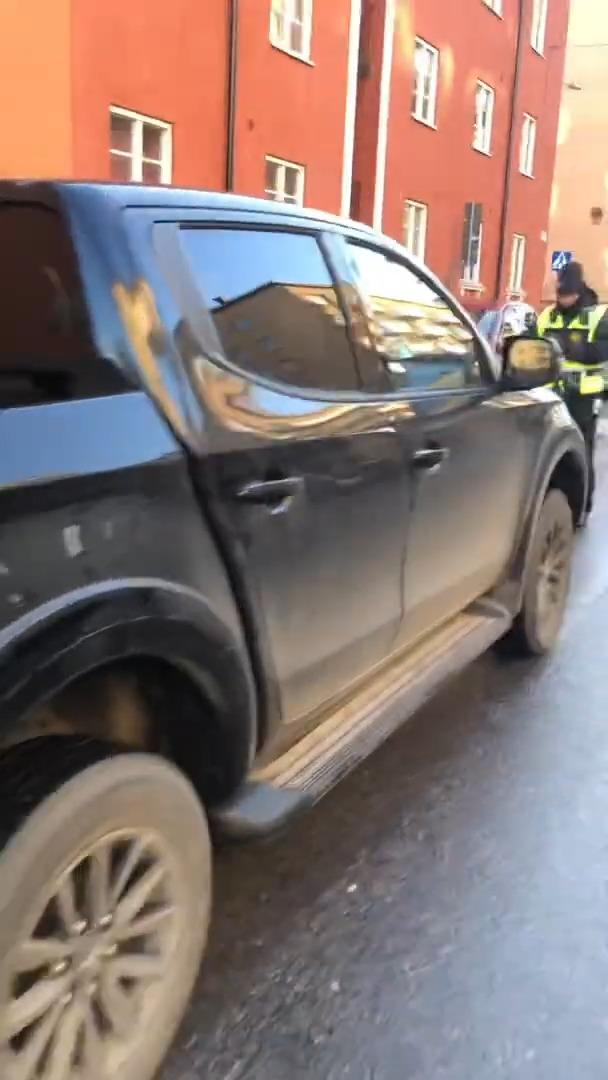parking-attendant: (537, 261, 607, 512)
